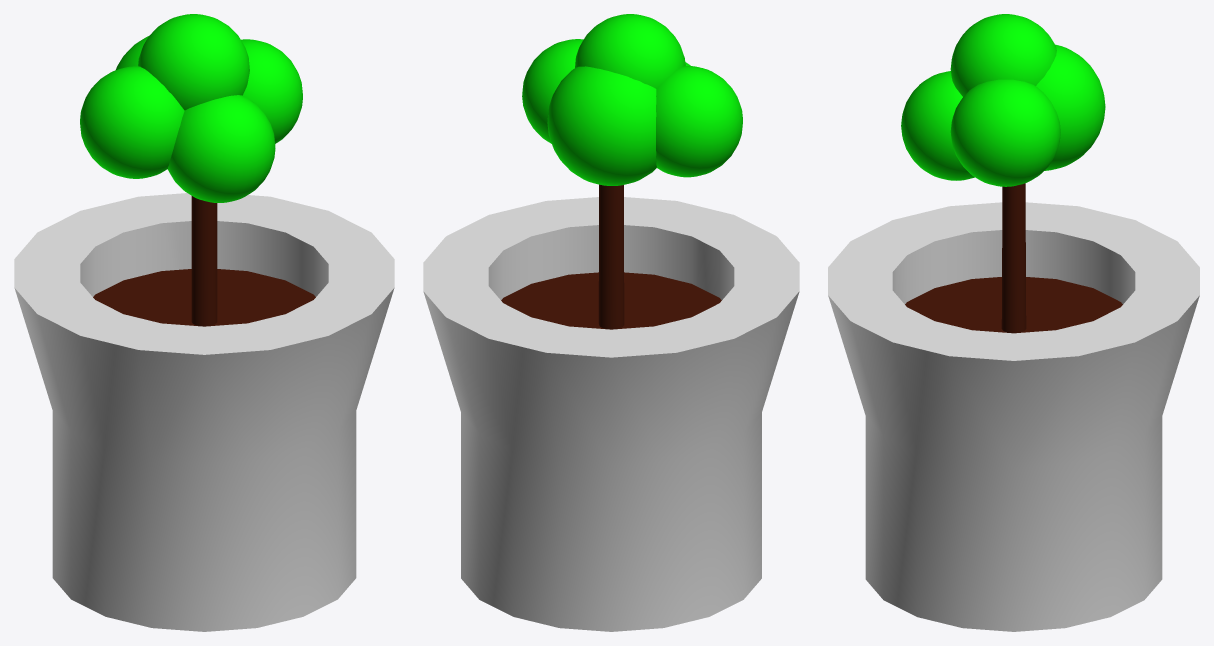
Rendered from PlantPot.FBX.
3 renders of one model, left to right at view 1: azimuth 30°, elevation 25°; view 2: azimuth 150°, elevation 25°; view 3: azimuth 270°, elevation 25°, orthographic. The views are drawn at different scales.
Parts seen in each view (by area): view 1: PlantPot, Sphere001, Sphere005, Cylinder003, Sphere003, Sphere004, Cylinder004; view 2: PlantPot, Sphere002, Sphere005, Cylinder003, Sphere003, Cylinder004, Sphere004; view 3: PlantPot, Sphere004, Cylinder003, Sphere003, Sphere002, Sphere001, Cylinder004.
Boxes of the visible parts, box(x1,y1,x2,y2) form: PlantPot: box(14, 193, 394, 631); Sphere001: box(167, 95, 275, 202); Sphere005: box(80, 66, 184, 178); Cylinder003: box(93, 269, 315, 326); Sphere003: box(138, 14, 249, 110); Sphere004: box(241, 39, 302, 143); Cylinder004: box(191, 196, 217, 326); PlantPot: box(423, 197, 799, 631); Sphere002: box(547, 66, 656, 185); Sphere005: box(656, 66, 742, 177); Cylinder003: box(501, 272, 721, 329); Sphere003: box(575, 14, 685, 88); Cylinder004: box(598, 184, 624, 329); Sphere004: box(522, 39, 583, 143); PlantPot: box(828, 202, 1199, 631); Sphere004: box(950, 79, 1060, 186); Cylinder003: box(905, 277, 1122, 332); Sphere003: box(950, 14, 1056, 96); Sphere002: box(1036, 44, 1105, 170); Sphere001: box(901, 71, 974, 180); Cylinder004: box(1001, 183, 1026, 333).
Bounding box in the file's own units: 13.07 × 20.7 × 12.87.
